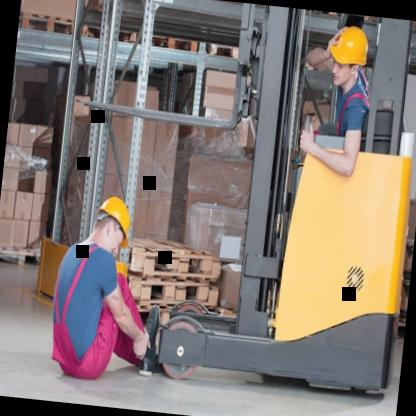helmet: (84, 182, 138, 264), (320, 21, 378, 91)
